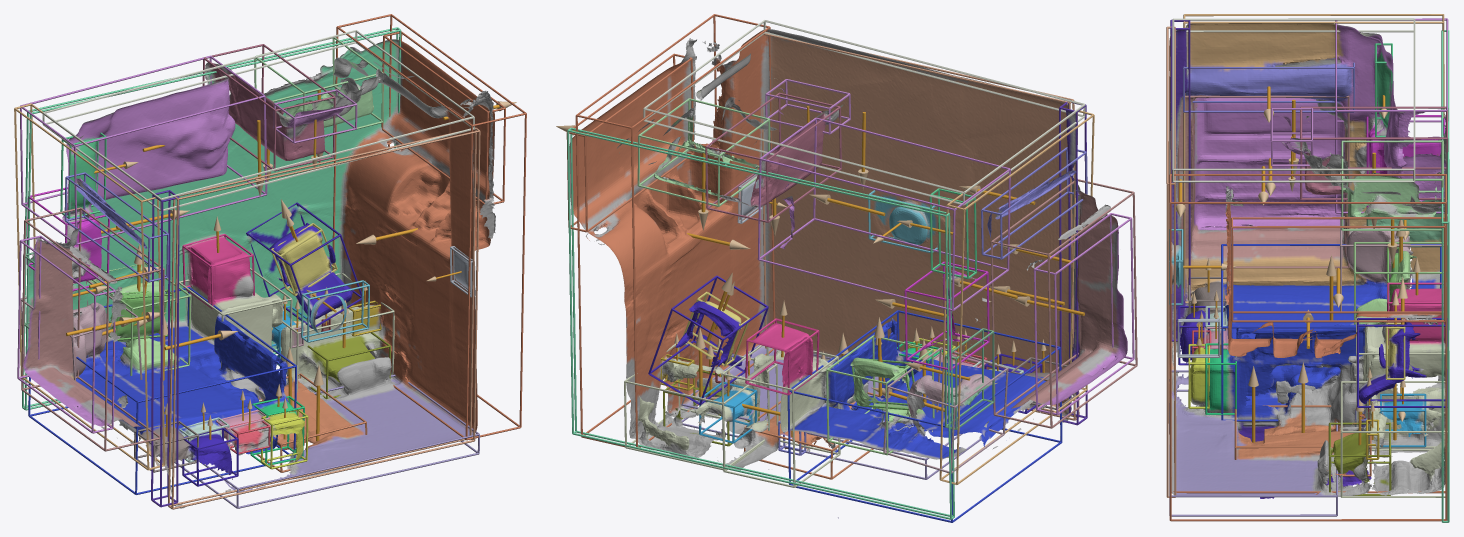
Rendered from scene_00128_04-obb.compressed.gltf.
3 views of the same model, side by side, from view 1: azimuth 30°, elevation 25°; view 2: azimuth 150°, elevation 25°; view 3: azimuth 270°, elevation 25° (orthographic). The views are drawn at different scales.
Bounding box in the file's own units: 5.4 × 4.16 × 2.61.
